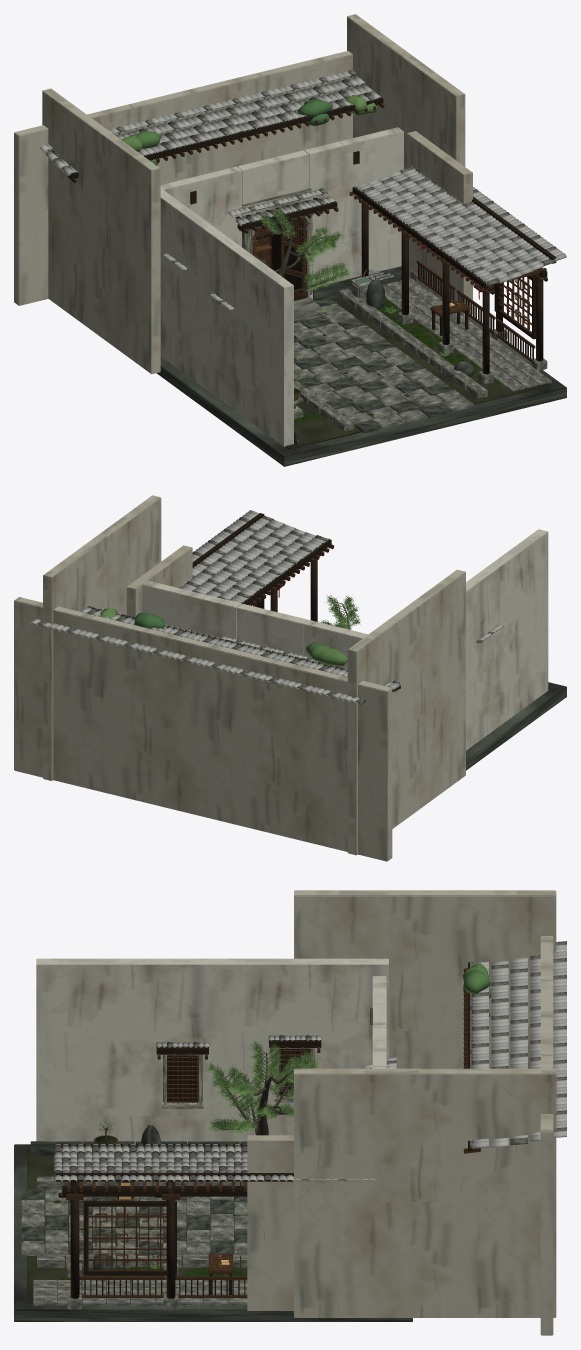
The model's file is chinese-courtyard.glb.
3 renders of one model, top to bottom at view 1: azimuth 30°, elevation 25°; view 2: azimuth 150°, elevation 25°; view 3: azimuth 270°, elevation 25°, orthographic. The views are drawn at different scales.
Visible parts, largest first — view 1: CourtyardEnvironment_00_Courtyard limestone repair, CourtyardArchitecture_03_Courtyard ivory limewash, CourtyardArchitecture_02_Courtyard worn grey sandstone, CourtyardArchitecture_00_Courtyard damp slate, CourtyardForeground_01_Courtyard smoked corridor timber, CourtyardForeground_00_Courtyard worn grey sandstone, CourtyardArchitecture_04_Courtyard limestone repair, CourtyardArchitecture_01_Courtyard loamy garden soil, CourtyardForeground_02_Courtyard aged elm timber, CourtyardForeground_06_Courtyard fired grey tile 02, CourtyardForeground_04_Courtyard fired grey tile 00, CourtyardForeground_08_Courtyard fired grey tile 04 (+22 smaller); view 2: CourtyardEnvironment_00_Courtyard limestone repair, CourtyardArchitecture_03_Courtyard ivory limewash, CourtyardArchitecture_00_Courtyard damp slate, CourtyardArchitecture_04_Courtyard limestone repair, CourtyardForeground_01_Courtyard smoked corridor timber, CourtyardForeground_04_Courtyard fired grey tile 00, CourtyardForeground_06_Courtyard fired grey tile 02, CourtyardForeground_05_Courtyard fired grey tile 01, CourtyardForeground_08_Courtyard fired grey tile 04, CourtyardForeground_07_Courtyard fired grey tile 03, CourtyardEnvironment_04_Courtyard fired grey tile 03, CourtyardEnvironment_01_Courtyard fired grey tile 00 (+3 smaller); view 3: CourtyardEnvironment_00_Courtyard limestone repair, CourtyardArchitecture_03_Courtyard ivory limewash, CourtyardArchitecture_00_Courtyard damp slate, CourtyardArchitecture_02_Courtyard worn grey sandstone, CourtyardArchitecture_04_Courtyard limestone repair, CourtyardForeground_01_Courtyard smoked corridor timber, CourtyardForeground_00_Courtyard worn grey sandstone, CourtyardForeground_02_Courtyard aged elm timber, CourtyardArchitecture_01_Courtyard loamy garden soil, CourtyardArchitecture_11_Courtyard smoked corridor timber, CourtyardEnvironment_04_Courtyard fired grey tile 03, CourtyardEnvironment_05_Courtyard fired grey tile 04 (+20 smaller).
Part boxes in pixels (<box>): CourtyardEnvironment_00_Courtyard limestone repair: <box>14,14,465,374</box>; CourtyardArchitecture_03_Courtyard ivory limewash: <box>160,127,403,446</box>; CourtyardArchitecture_02_Courtyard worn grey sandstone: <box>242,188,487,431</box>; CourtyardArchitecture_00_Courtyard damp slate: <box>156,213,566,466</box>; CourtyardForeground_01_Courtyard smoked corridor timber: <box>352,187,556,374</box>; CourtyardForeground_00_Courtyard worn grey sandstone: <box>383,270,551,391</box>; CourtyardArchitecture_04_Courtyard limestone repair: <box>407,131,472,316</box>; CourtyardArchitecture_01_Courtyard loamy garden soil: <box>285,297,550,449</box>; CourtyardForeground_02_Courtyard aged elm timber: <box>349,191,546,363</box>; CourtyardForeground_06_Courtyard fired grey tile 02: <box>361,166,556,286</box>; CourtyardForeground_04_Courtyard fired grey tile 00: <box>354,165,566,285</box>; CourtyardForeground_08_Courtyard fired grey tile 04: <box>368,171,562,278</box>; CourtyardEnvironment_00_Courtyard limestone repair: <box>14,495,465,861</box>; CourtyardArchitecture_03_Courtyard ivory limewash: <box>142,529,548,750</box>; CourtyardArchitecture_00_Courtyard damp slate: <box>466,682,566,770</box>; CourtyardArchitecture_04_Courtyard limestone repair: <box>126,545,192,617</box>; CourtyardForeground_01_Courtyard smoked corridor timber: <box>192,513,331,621</box>; CourtyardForeground_04_Courtyard fired grey tile 00: <box>180,510,329,602</box>; CourtyardForeground_06_Courtyard fired grey tile 02: <box>178,515,327,599</box>; CourtyardForeground_05_Courtyard fired grey tile 01: <box>183,518,324,603</box>; CourtyardForeground_08_Courtyard fired grey tile 04: <box>179,512,318,602</box>; CourtyardForeground_07_Courtyard fired grey tile 03: <box>180,514,315,602</box>; CourtyardEnvironment_04_Courtyard fired grey tile 03: <box>29,607,359,703</box>; CourtyardEnvironment_01_Courtyard fired grey tile 00: <box>46,614,400,700</box>; CourtyardEnvironment_00_Courtyard limestone repair: <box>294,890,556,1335</box>; CourtyardArchitecture_03_Courtyard ivory limewash: <box>36,958,388,1144</box>; CourtyardArchitecture_00_Courtyard damp slate: <box>14,1141,412,1321</box>; CourtyardArchitecture_02_Courtyard worn grey sandstone: <box>21,1048,371,1267</box>; CourtyardArchitecture_04_Courtyard limestone repair: <box>247,1135,293,1310</box>; CourtyardForeground_01_Courtyard smoked corridor timber: <box>55,1144,293,1298</box>; CourtyardForeground_00_Courtyard worn grey sandstone: <box>33,1263,247,1309</box>; CourtyardForeground_02_Courtyard aged elm timber: <box>57,1151,247,1297</box>; CourtyardArchitecture_01_Courtyard loamy garden soil: <box>27,1136,247,1303</box>; CourtyardArchitecture_11_Courtyard smoked corridor timber: <box>156,1008,372,1101</box>; CourtyardEnvironment_04_Courtyard fired grey tile 03: <box>470,944,566,1148</box>; CourtyardEnvironment_05_Courtyard fired grey tile 04: <box>470,948,566,1147</box>.
Size of the model in its own units: 14 by 7.69 by 14.97.
Materials: 32 (14 with a texture image).
